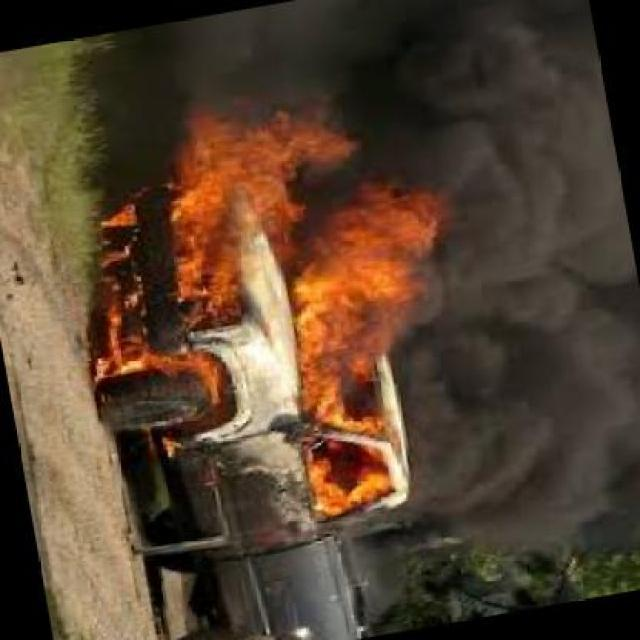Fire: (97, 127, 415, 499)
Smoke: (451, 5, 608, 522), (194, 21, 440, 104)
